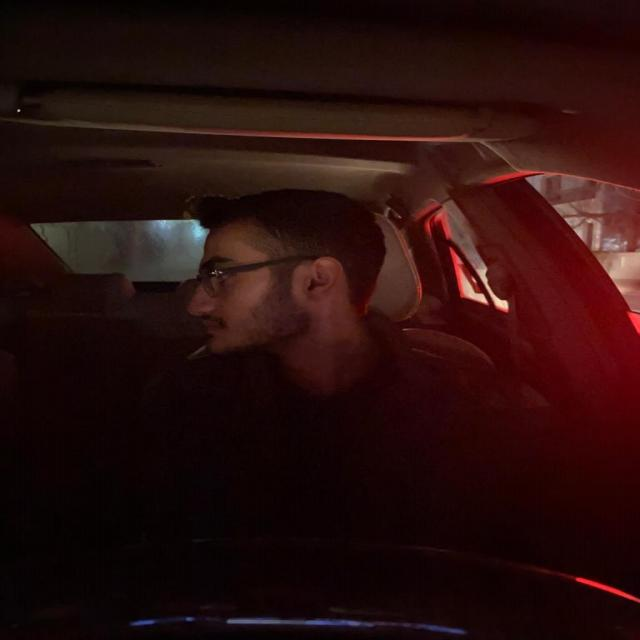LeftRight: (182, 213, 378, 359)
